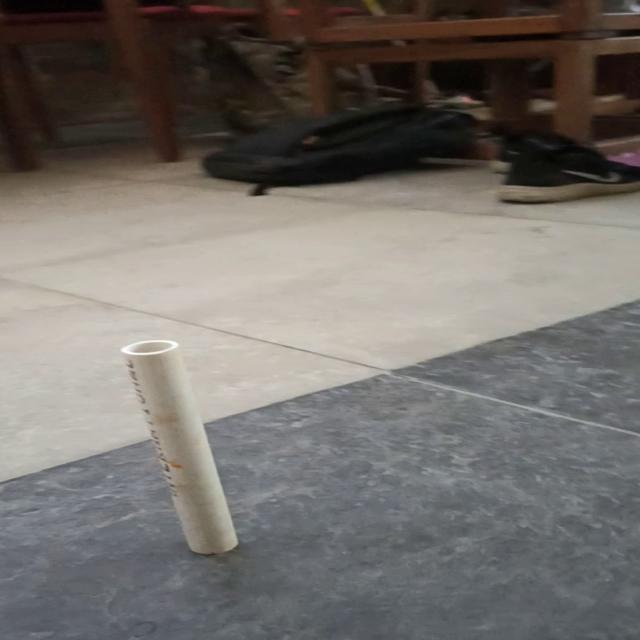Cube: (117, 339, 240, 555)
